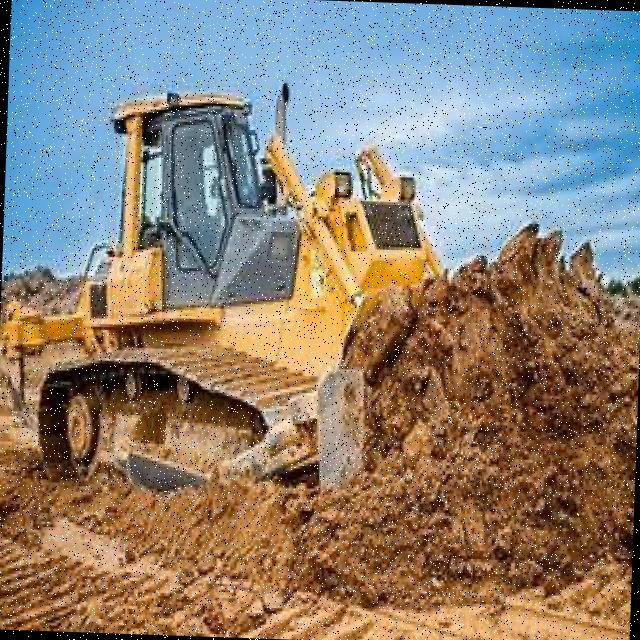Bulldozer: (0, 33, 579, 553)
